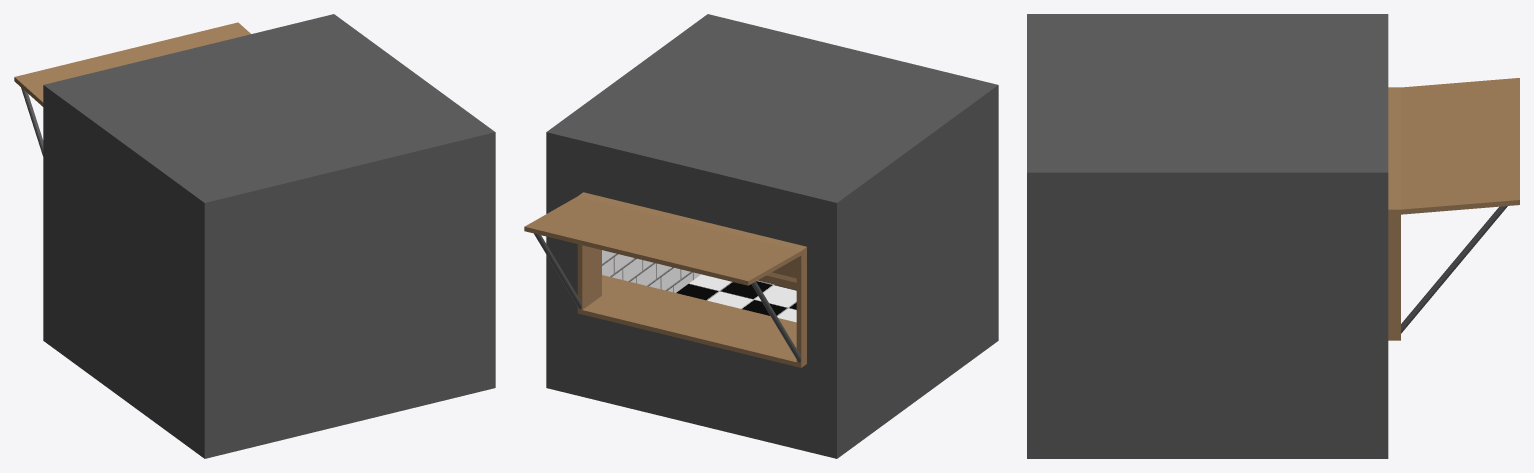
Rendered from Truck2.fbx.
3 renders of one model, left to right at view 1: azimuth 30°, elevation 25°; view 2: azimuth 150°, elevation 25°; view 3: azimuth 270°, elevation 25°, orthographic. The views are drawn at different scales.
Parts seen in each view (by area): view 1: Cylinder; view 2: Cylinder, Cube, Cylinder.001; view 3: Cylinder.
Part boxes in pixels (bbox=[...]): Cylinder: bbox=[14, 14, 495, 458]; Cylinder: bbox=[524, 14, 998, 458]; Cube: bbox=[602, 275, 796, 342]; Cylinder.001: bbox=[758, 258, 796, 289]; Cylinder: bbox=[1027, 14, 1519, 458].
Size of the model in its own units: 416 by 350 by 546.
